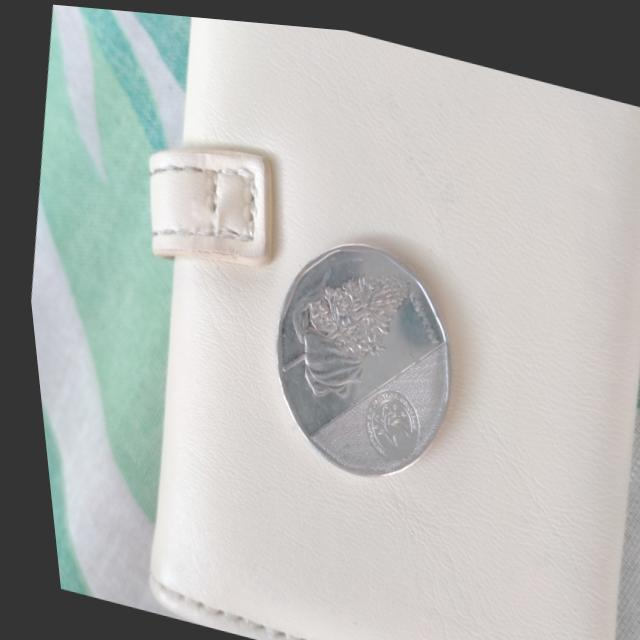10_New_Back: (249, 226, 416, 417)
